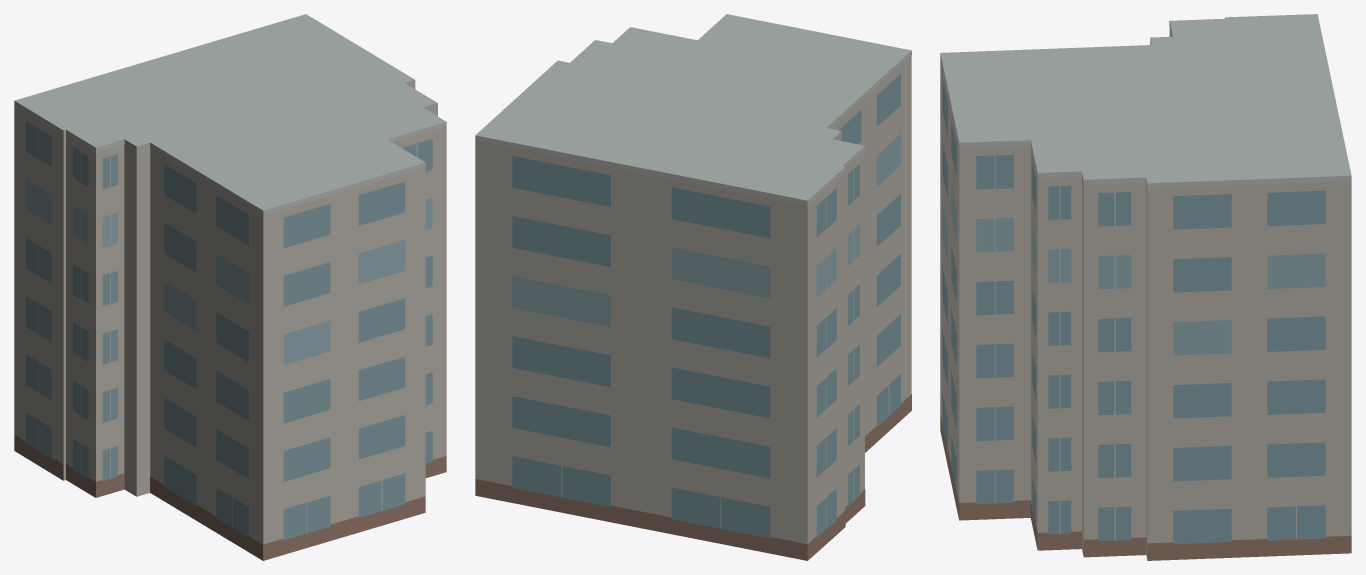
Rendered from survey-upis-32494475.glb.
3 views of the same model, side by side, from view 1: azimuth 30°, elevation 25°; view 2: azimuth 150°, elevation 25°; view 3: azimuth 270°, elevation 25° (orthographic). The views are drawn at different scales.
Parts seen in each view (by area): view 1: survey-upis-32494475.tmp; view 2: survey-upis-32494475.tmp; view 3: survey-upis-32494475.tmp.
Boxes of the visible parts, x1,y1,x2,y2 form: survey-upis-32494475.tmp: (14, 14, 446, 560); survey-upis-32494475.tmp: (475, 14, 911, 560); survey-upis-32494475.tmp: (940, 14, 1351, 560).
Bounding box in the file's own units: 17.43 × 18.11 × 17.89.
